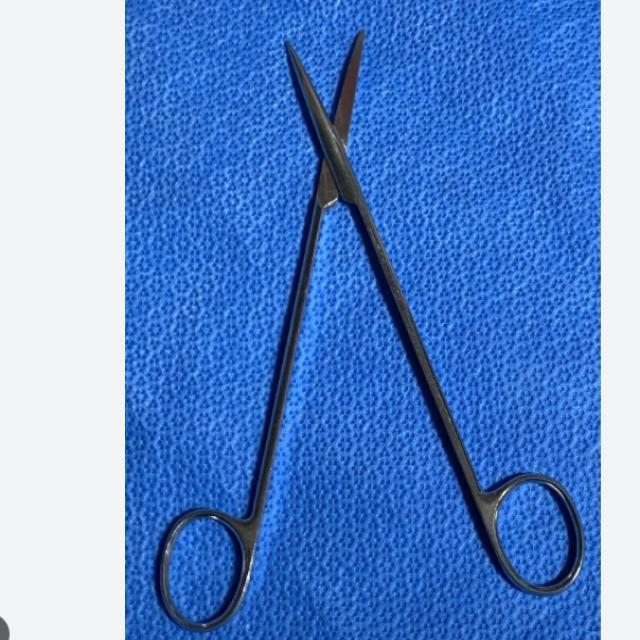Metzenbaum Sciccors: (150, 24, 580, 636)
